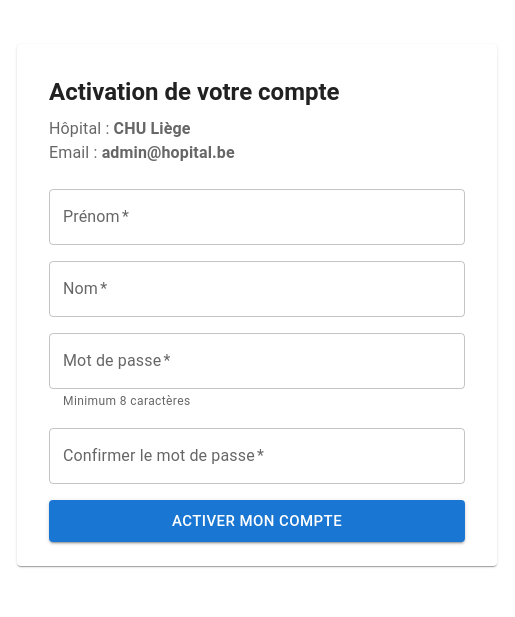
it: HospitalAdminSetupPage › shows a validation error when the password is shorter than 8 characters
Expected: the button "Activer mon compte" is shown, [49,500,465,542]
Type "Jean" into the field labelled "Prénom *". click: {"x": 257, "y": 217}
box: [49,189,465,245]
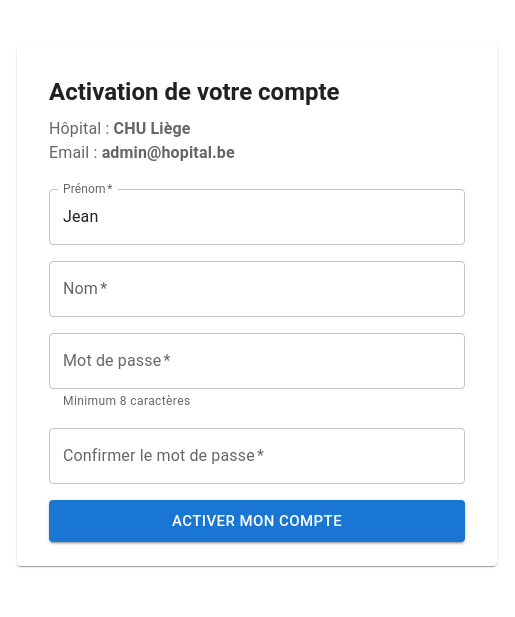
Type "Dupont" into the field labelled "Nom *". click: {"x": 257, "y": 289}
box: [49,261,465,317]
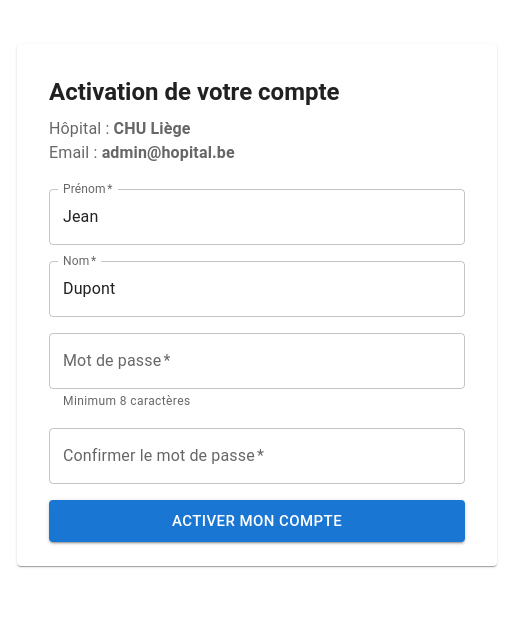
Type "court" into the password field labelled "Mot de passe *". click: {"x": 257, "y": 361}
box: [49,333,465,389]
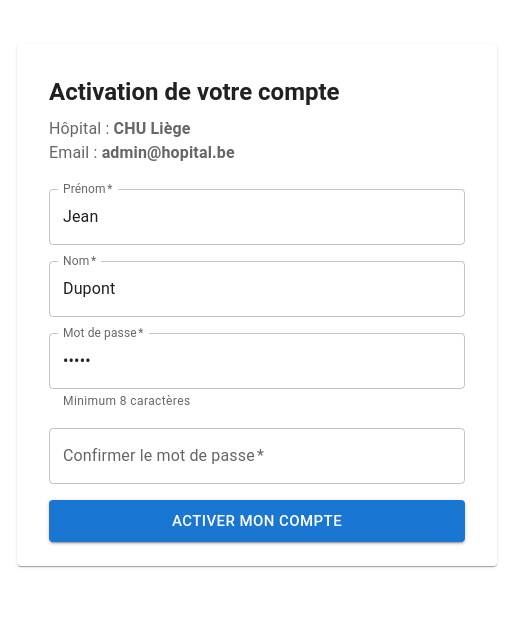
Type "court" into the password field labelled "Confirmer le mot de passe *". click: {"x": 257, "y": 456}
box: [49,428,465,484]
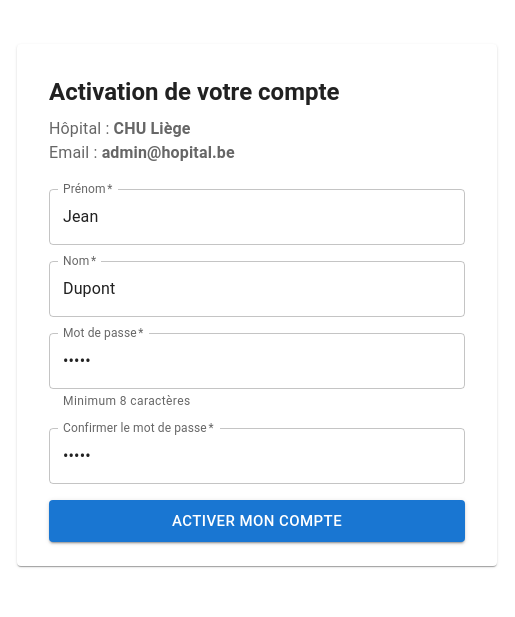
Click the button "Activer mon compte". click: {"x": 257, "y": 521}
box: [49,500,465,542]
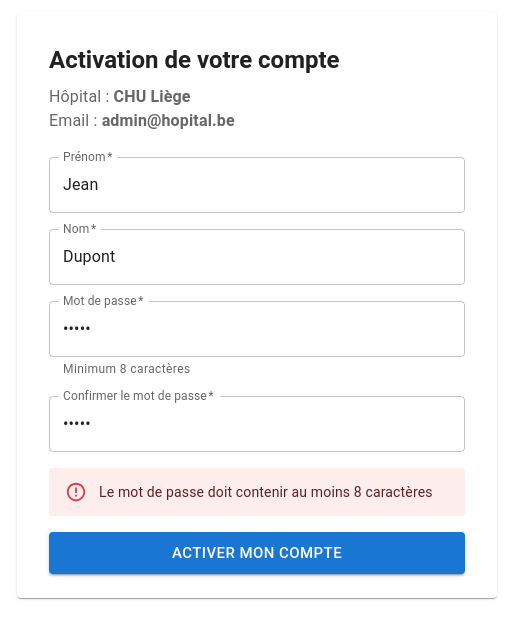
Result: the text "Le mot de passe doit contenir au moins 8 caractères" is shown at [99,484,433,500]
